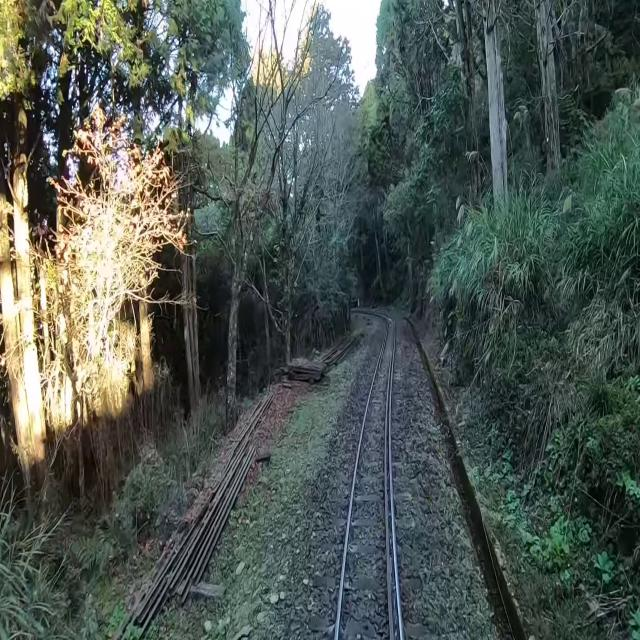rail-track: (339, 317, 393, 639), (393, 582, 398, 639)
